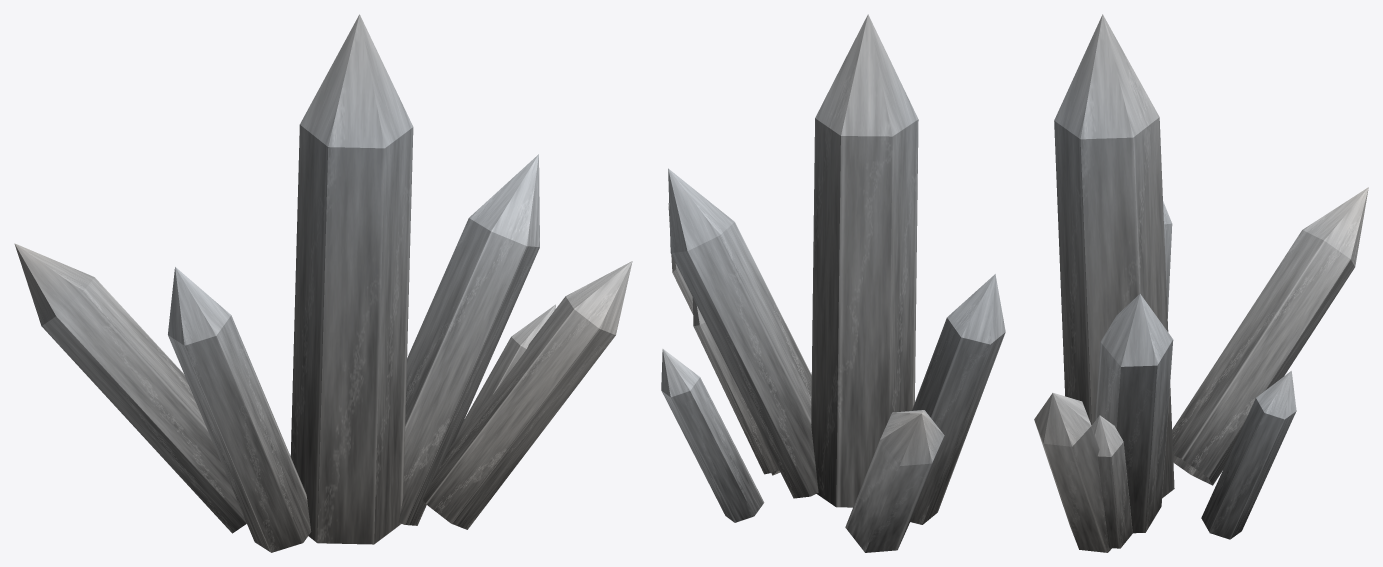
File: crystals_l0.gltf
3 views of the same model, side by side, from view 1: azimuth 30°, elevation 25°; view 2: azimuth 150°, elevation 25°; view 3: azimuth 270°, elevation 25° (orthographic). The views are drawn at different scales.
Visible parts, largest first — view 1: crystals_l0; view 2: crystals_l0; view 3: crystals_l0.
Part boxes in pixels (x1,y1,x2,y2): crystals_l0: (14, 14, 632, 552); crystals_l0: (661, 14, 1005, 552); crystals_l0: (1034, 14, 1368, 552).
Bounding box in the file's own units: 2 × 2.29 × 1.39.
1 material, 1 textured.
